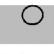no answer: (20, 3, 45, 27)
